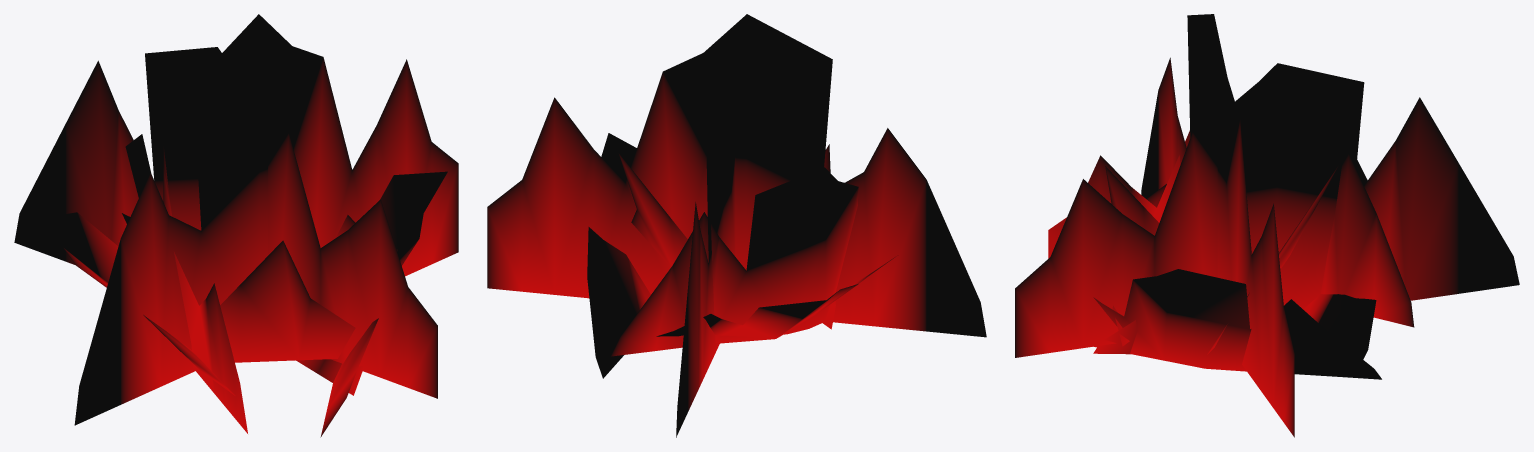
File: SM_SimpleGrass_Green.FBX
3 views of the same model, side by side, from view 1: azimuth 30°, elevation 25°; view 2: azimuth 150°, elevation 25°; view 3: azimuth 270°, elevation 25° (orthographic). The views are drawn at different scales.
Parts seen in each view (by area): view 1: SM_SimpleGrass_Green_LOD0; view 2: SM_SimpleGrass_Green_LOD0; view 3: SM_SimpleGrass_Green_LOD0.
Boxes of the visible parts, bbox=[...] form: SM_SimpleGrass_Green_LOD0: bbox=[14, 14, 458, 437]; SM_SimpleGrass_Green_LOD0: bbox=[487, 14, 986, 437]; SM_SimpleGrass_Green_LOD0: bbox=[1015, 14, 1519, 437].
Bounding box in the file's own units: 66.74 × 48.45 × 66.
